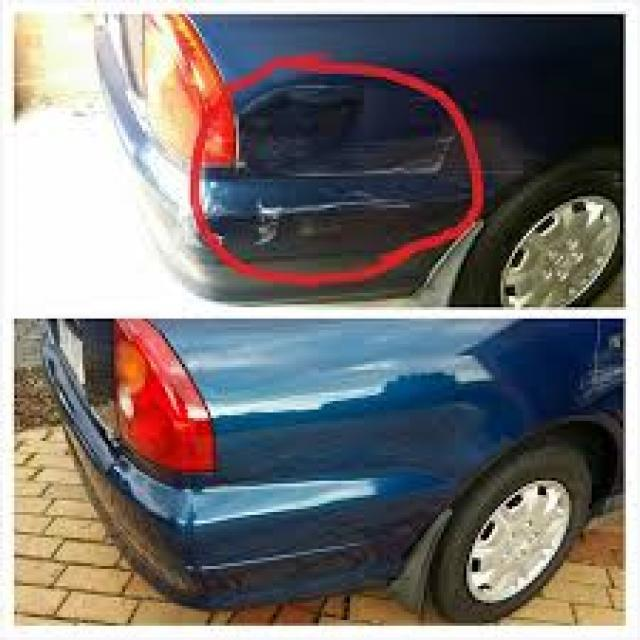dent-or-scratch: (232, 90, 462, 251)
